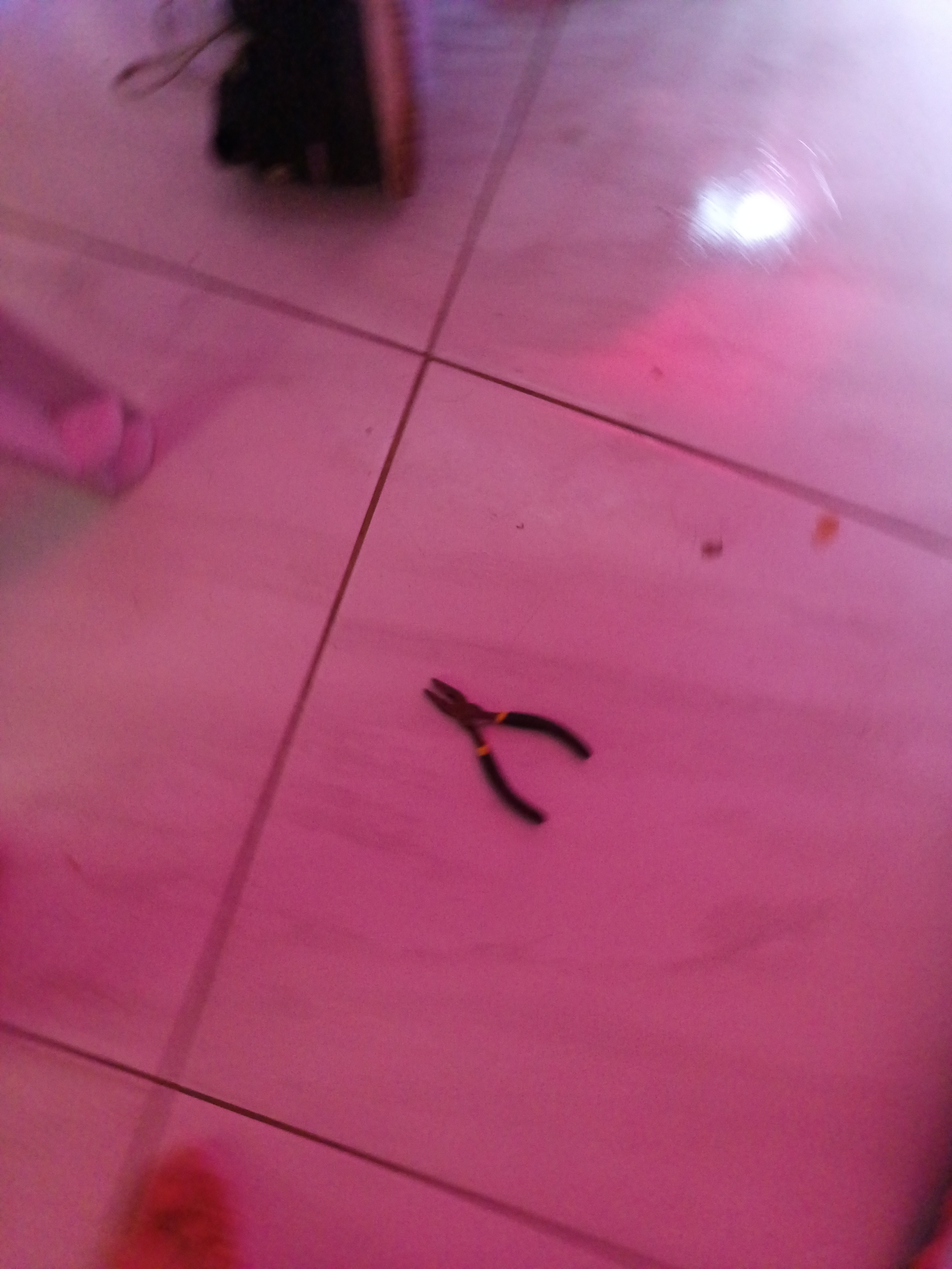Pinzas: (423, 677, 592, 825)
